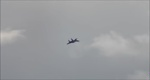maybay_muctieu: (68, 37, 79, 46)
